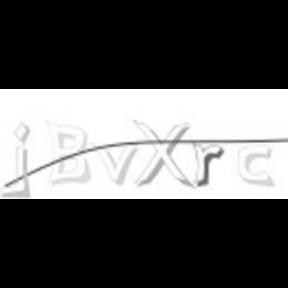B: (43, 116, 93, 190)
X: (133, 118, 197, 192)
c: (234, 142, 276, 189)
j: (1, 122, 34, 200)
r: (189, 138, 223, 188)
v: (92, 141, 138, 187)
